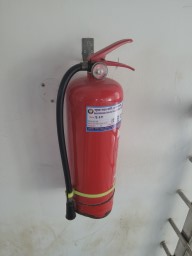fire_extinguisher: (28, 75, 165, 181)
